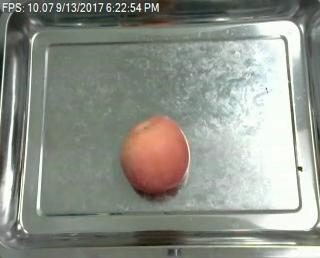apple: (118, 115, 190, 196)
